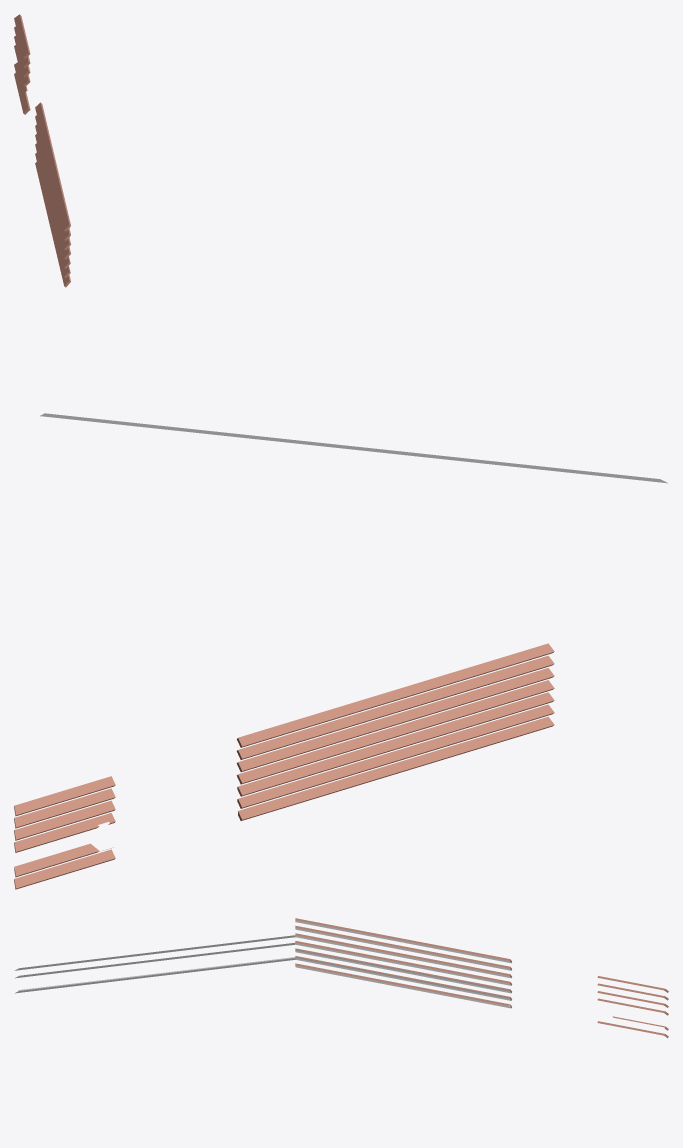
The picture shows the model from 3 angles, top to bottom: view 1: azimuth 30°, elevation 25°; view 2: azimuth 150°, elevation 25°; view 3: azimuth 270°, elevation 25°; orthographic projection. The views are drawn at different scales.
Parts seen in each view (by area): view 1: 2960; view 2: 2960, 2945, 2952, 2948, 2940, 2956, 2936, 2853, 2872, 2876, 2880, 2896 (+2 smaller); view 3: 2865, 2925, 2929, 2941, 2944, 2952, 2956, 2960, 2936, 2948, 2937, 2957 (+5 smaller).
Boxes of the visible parts, <box> form: 2960: <box>35,102,70,231</box>; 2960: <box>237,643,554,747</box>; 2945: <box>237,692,554,796</box>; 2952: <box>236,668,554,772</box>; 2948: <box>236,680,554,784</box>; 2940: <box>237,704,554,808</box>; 2956: <box>236,655,554,759</box>; 2936: <box>238,716,554,820</box>; 2853: <box>40,413,667,483</box>; 2872: <box>14,776,115,816</box>; 2876: <box>14,788,115,828</box>; 2880: <box>14,800,115,840</box>; 2896: <box>14,849,115,889</box>; 2865: <box>15,957,295,993</box>; 2925: <box>14,935,295,970</box>; 2929: <box>15,942,295,978</box>; 2941: <box>295,957,511,1000</box>; 2944: <box>295,949,510,993</box>; 2952: <box>295,933,511,977</box>; 2956: <box>295,925,511,970</box>; 2960: <box>295,918,511,962</box>; 2936: <box>295,963,511,1007</box>; 2948: <box>295,941,511,985</box>; 2937: <box>295,965,511,1008</box>; 2957: <box>295,927,511,970</box>.
Size of the model in its own units: 11.23 by 1.34 by 15.75.
